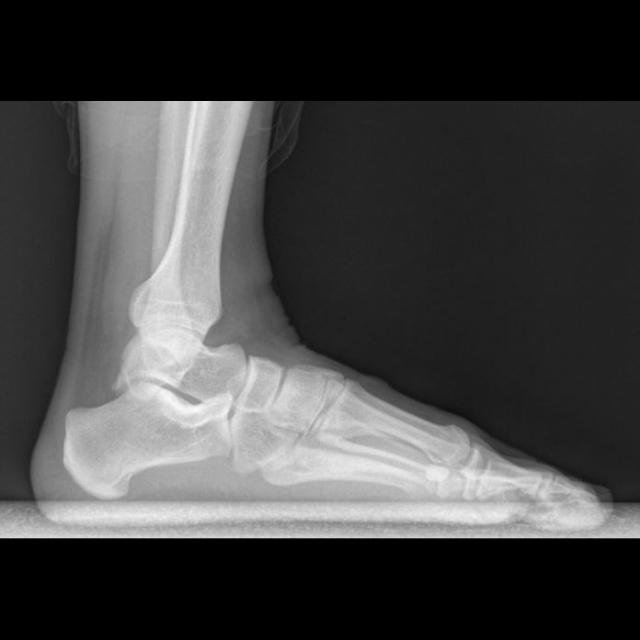a: (60, 384, 230, 497)
b: (235, 352, 281, 409)
c: (322, 376, 468, 470)
